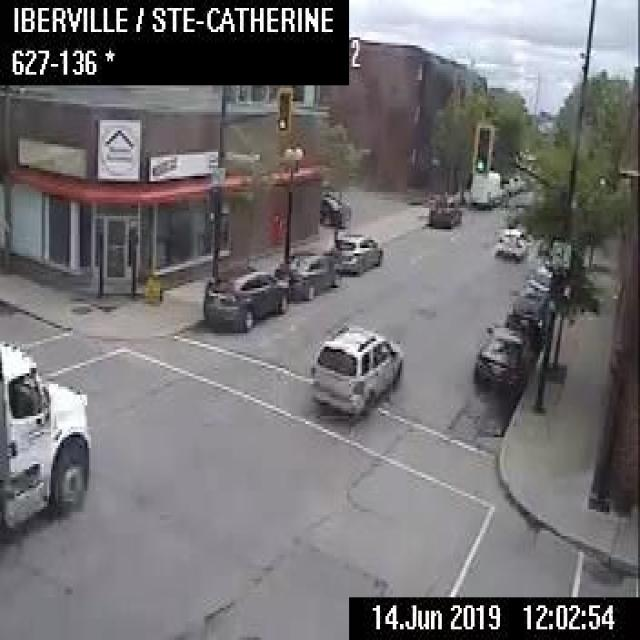vehicle: (0, 336, 91, 536), (308, 323, 406, 416), (200, 266, 289, 333), (471, 323, 532, 392), (274, 248, 339, 297), (328, 231, 382, 275), (504, 292, 546, 342), (425, 189, 460, 228), (469, 168, 501, 206), (318, 191, 349, 228), (493, 224, 526, 258), (523, 263, 554, 297), (498, 175, 514, 194), (508, 172, 520, 191)
